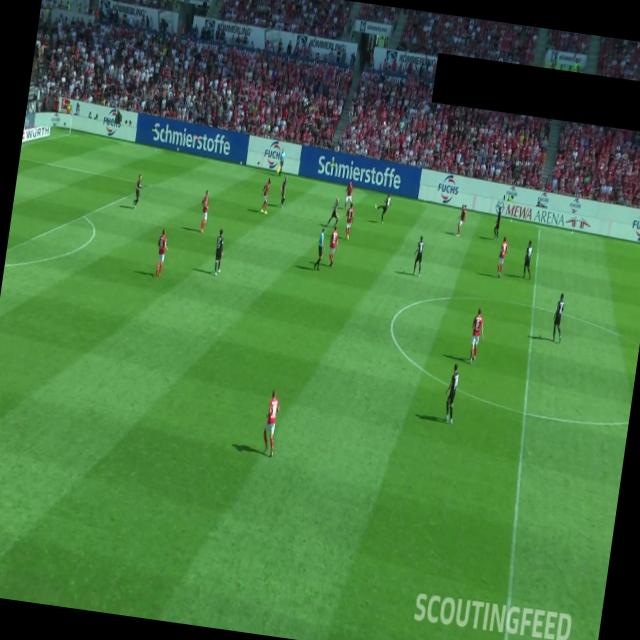ball: (382, 120, 387, 126)
player: (260, 389, 282, 458), (467, 306, 488, 366), (441, 362, 461, 424), (550, 292, 568, 344), (154, 228, 170, 278), (212, 228, 227, 276), (326, 225, 342, 268), (372, 192, 392, 225), (411, 234, 426, 277), (198, 190, 212, 234), (496, 237, 510, 280), (522, 240, 536, 280), (259, 176, 273, 215), (343, 202, 356, 241), (326, 198, 342, 228), (342, 180, 356, 212), (132, 173, 144, 210), (492, 206, 504, 242), (456, 202, 468, 238), (278, 176, 288, 208)
referee: (314, 228, 327, 272), (277, 147, 286, 176)
